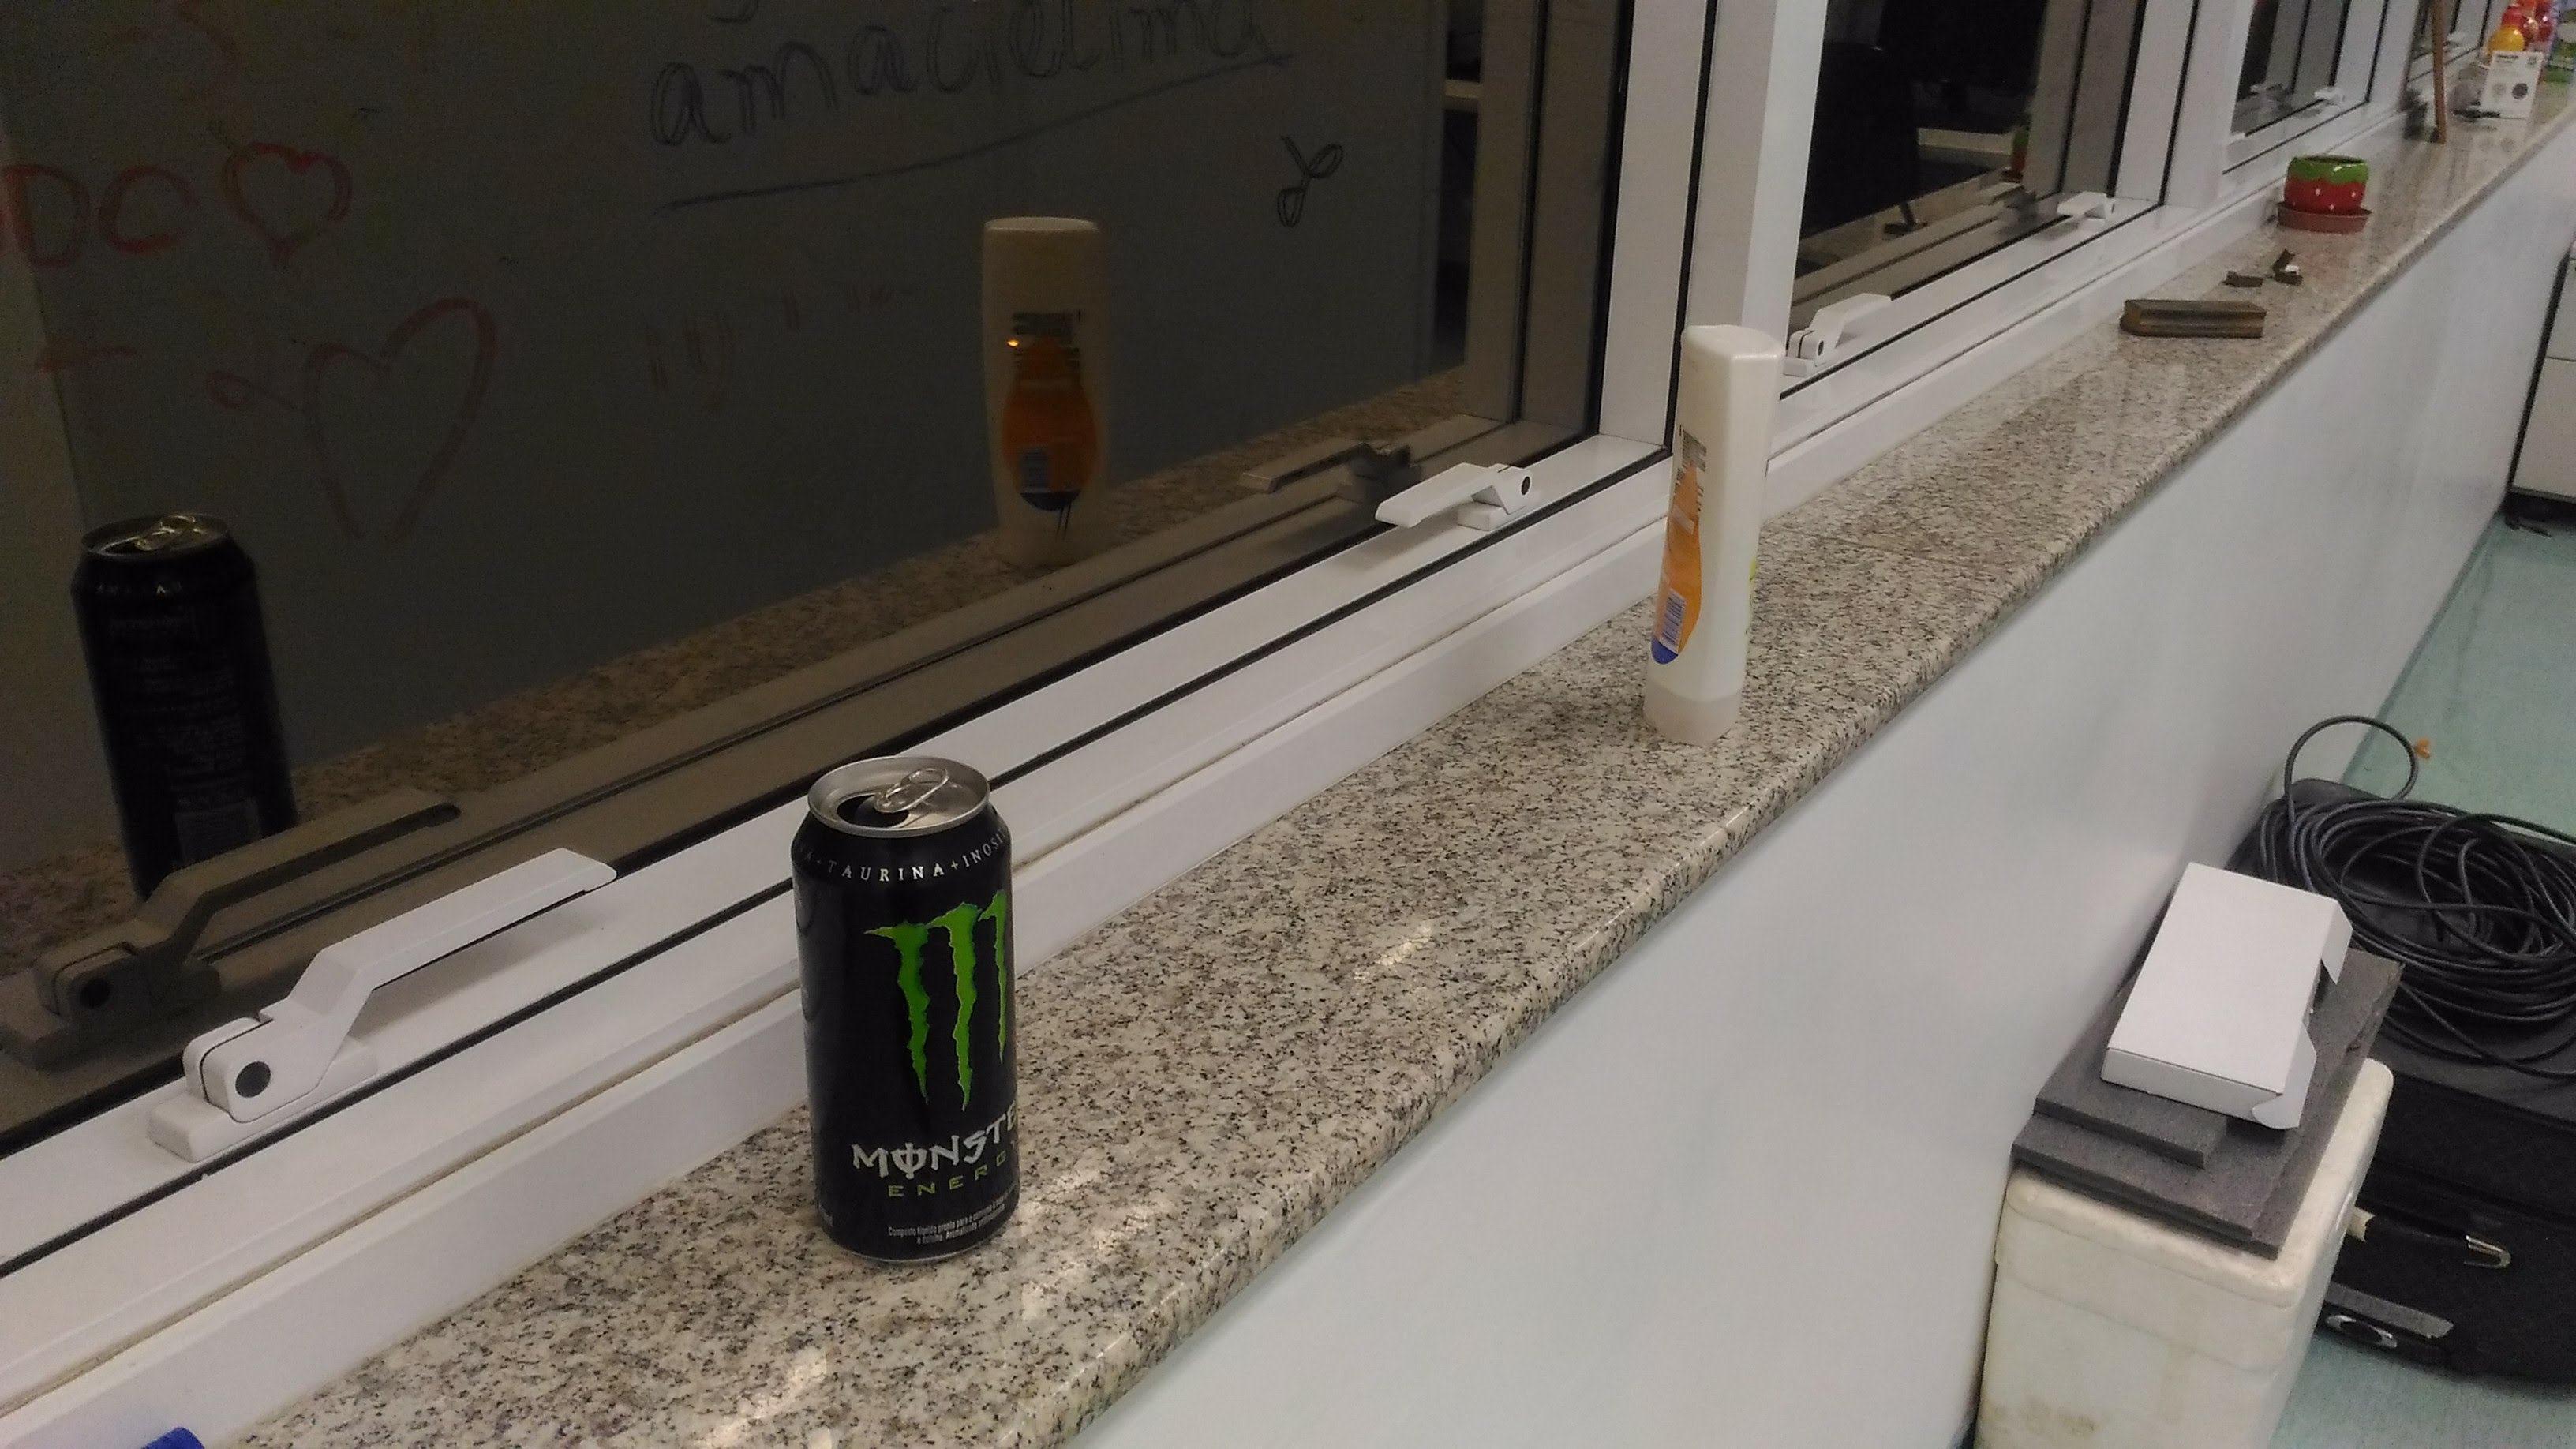monster: (780, 757, 1039, 1284)
shampoo: (1652, 304, 1782, 778)
